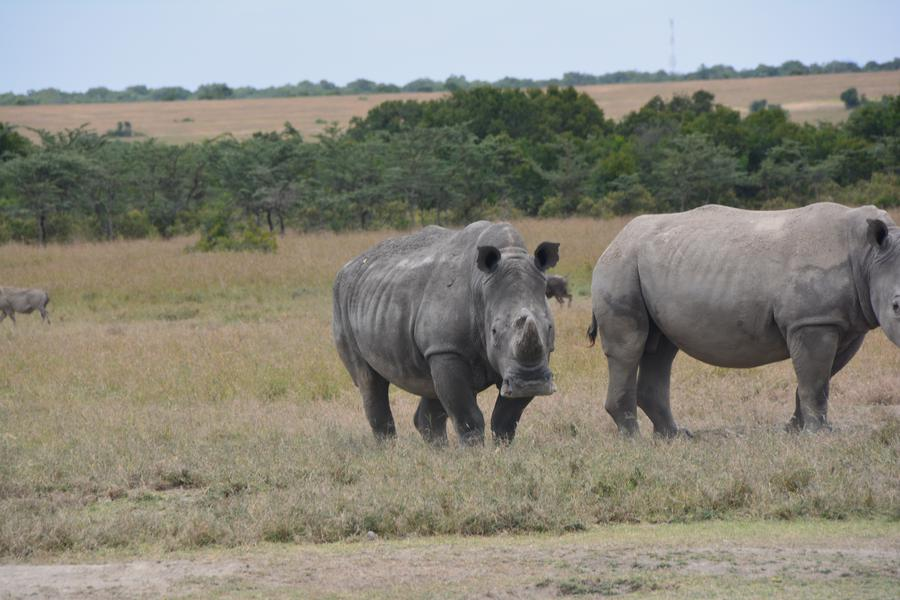rhino: (604, 210, 883, 433), (339, 218, 558, 452)
